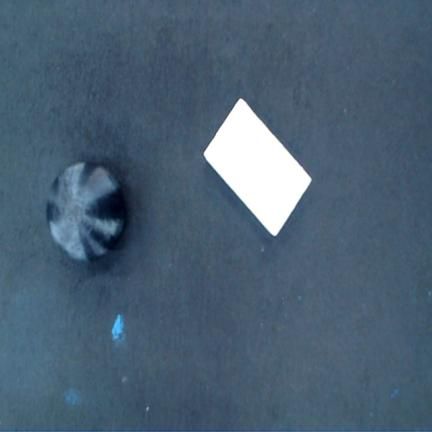Esfera: (47, 162, 126, 261)
Paralelepipedo: (204, 96, 314, 238)
